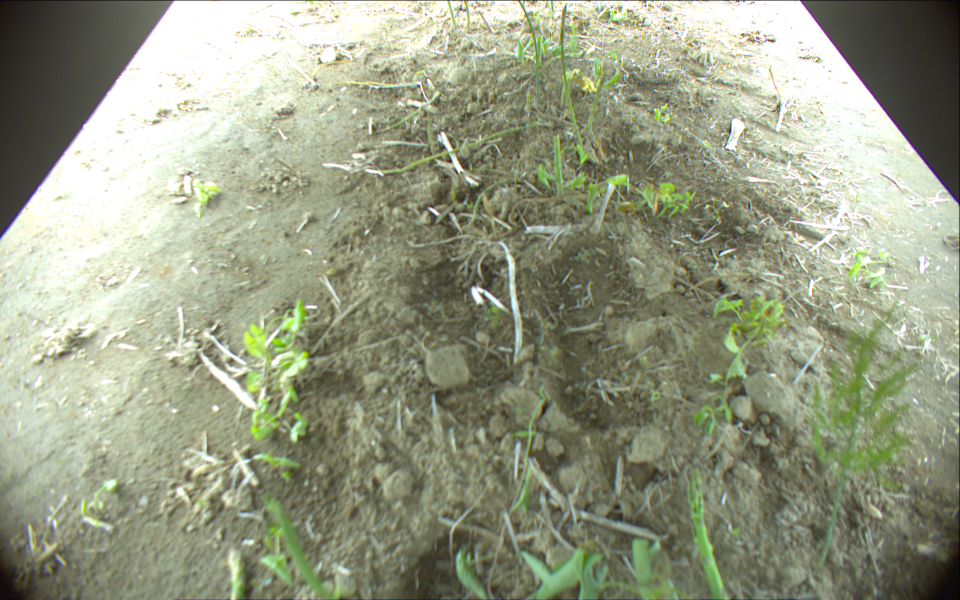aspa: (371, 120, 546, 175), (268, 500, 333, 600), (688, 468, 726, 600), (363, 88, 443, 135), (560, 4, 584, 145), (518, 1, 539, 64), (587, 73, 607, 135), (229, 548, 247, 600), (552, 134, 563, 192), (447, 1, 457, 24), (463, 1, 471, 29)
